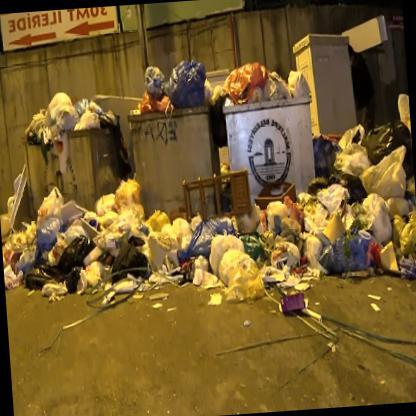Garbage: (0, 186, 147, 306), (317, 108, 414, 277), (131, 218, 270, 301), (244, 188, 327, 318), (220, 57, 312, 107), (22, 93, 113, 142), (134, 55, 212, 110)
